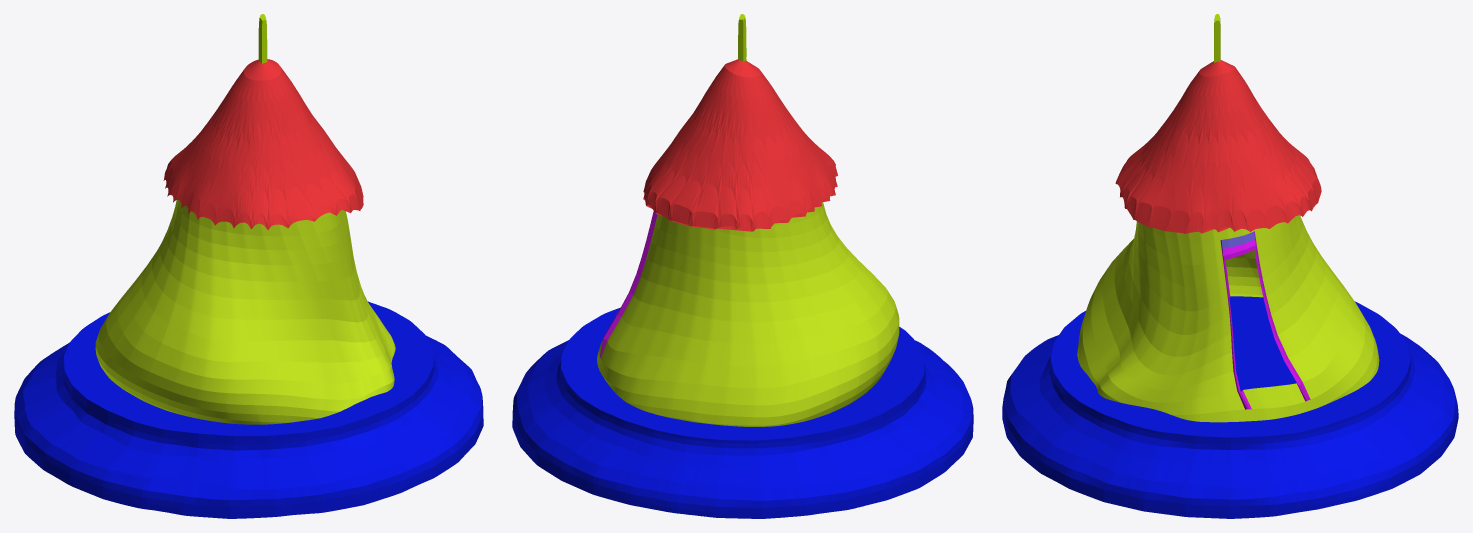
File: Circus.fbx
The picture shows the model from 3 angles, left to right: view 1: azimuth 30°, elevation 25°; view 2: azimuth 150°, elevation 25°; view 3: azimuth 270°, elevation 25°; orthographic projection.
Visible parts, largest first — view 1: Cylinder.001, Cylinder, Cone; view 2: Cylinder.001, Cylinder, Cone, Cylinder.003; view 3: Cylinder.001, Cylinder, Cone, Cylinder.003.
Boxes of the visible parts, <box> form: Cylinder.001: <box>14,301,483,518</box>; Cylinder: <box>95,200,395,424</box>; Cone: <box>163,59,363,230</box>; Cylinder.001: <box>512,308,973,518</box>; Cylinder: <box>597,202,899,426</box>; Cone: <box>643,59,837,231</box>; Cylinder.003: <box>600,211,657,357</box>; Cylinder.001: <box>1002,296,1458,518</box>; Cylinder: <box>1077,215,1379,422</box>; Cone: <box>1115,60,1321,233</box>; Cylinder.003: <box>1220,231,1310,409</box>.
Size of the model in its own units: 1445 by 1379 by 1396.
